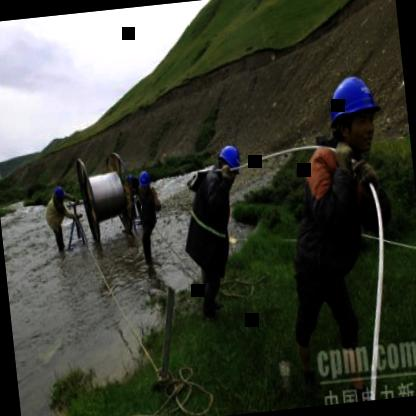helmet: (320, 68, 387, 164), (214, 140, 244, 183), (136, 166, 152, 196), (52, 182, 66, 204)
